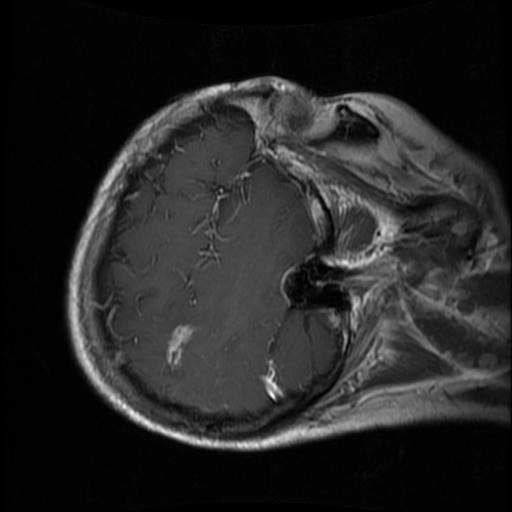glioma: (165, 324, 201, 372)
